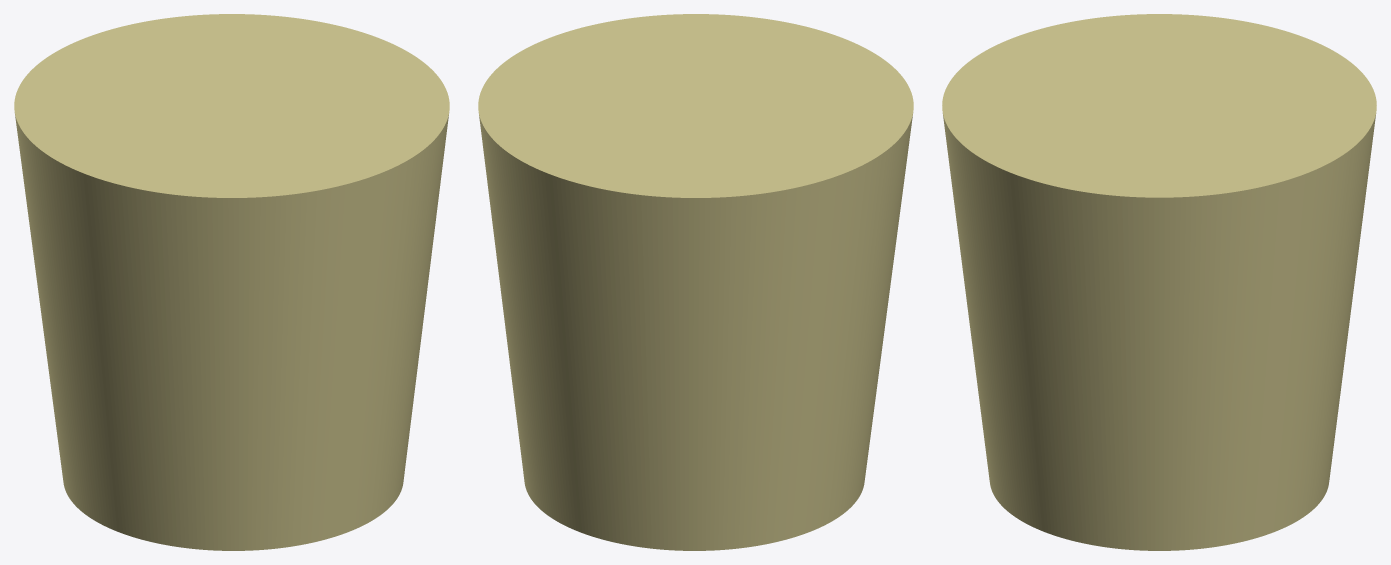
Rendered from LiquidMilktea_Visual.fbx.
3 views of the same model, side by side, from view 1: azimuth 30°, elevation 25°; view 2: azimuth 150°, elevation 25°; view 3: azimuth 270°, elevation 25° (orthographic).
Parts seen in each view (by area): view 1: Milktea; view 2: Milktea; view 3: Milktea.
Boxes of the visible parts, x1,y1,x2,y2 form: Milktea: [14, 14, 449, 550]; Milktea: [478, 14, 913, 550]; Milktea: [942, 14, 1376, 550].
Bounding box in the file's own units: 32.73 × 30.96 × 32.73.
